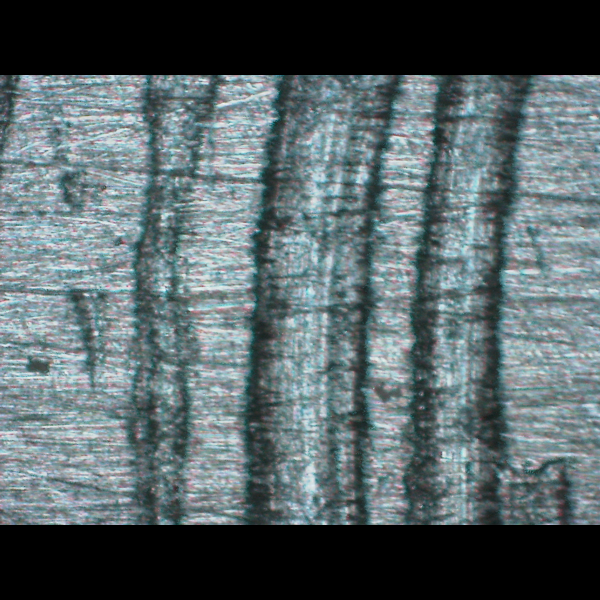d: (96, 76, 554, 525)
